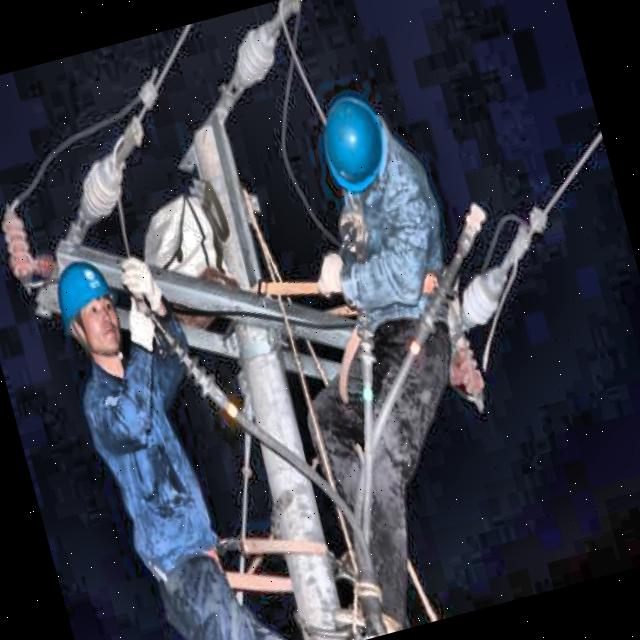helmet: (307, 84, 408, 212), (44, 244, 138, 372)
